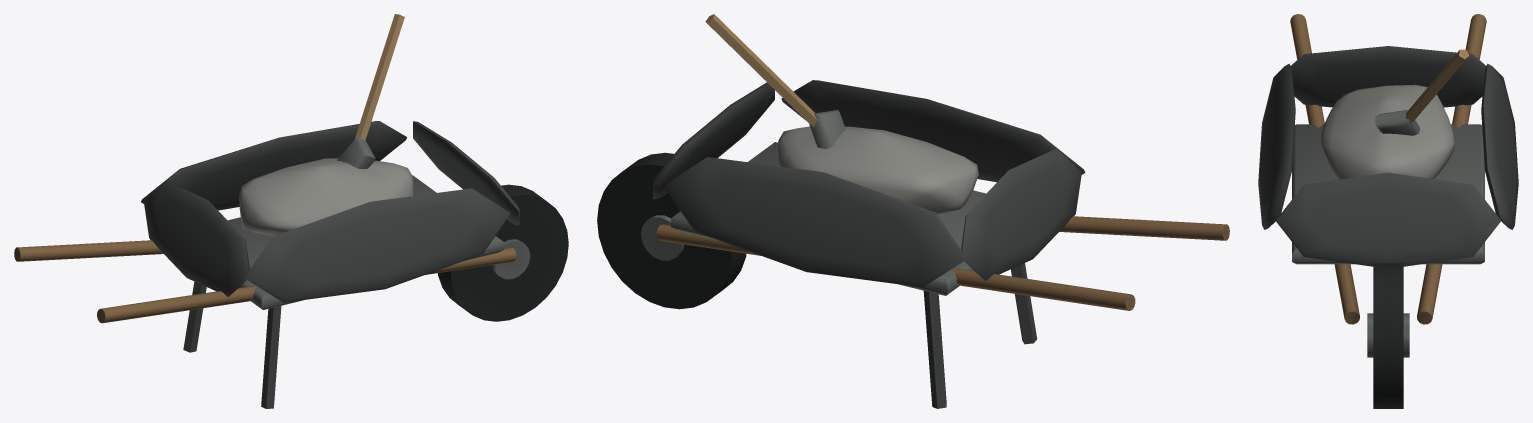
The model's file is wheelbarrow_a.glb.
The picture shows the model from 3 angles, left to right: view 1: azimuth 30°, elevation 25°; view 2: azimuth 150°, elevation 25°; view 3: azimuth 270°, elevation 25°; orthographic projection. The views are drawn at different scales.
Parts seen in each view (by area): view 1: Surface; view 2: Surface; view 3: Surface.
Part boxes in pixels (bbox=[...]): Surface: bbox=[14, 14, 568, 408]; Surface: bbox=[597, 14, 1229, 408]; Surface: bbox=[1258, 14, 1518, 408].
Size of the model in its own units: 2.08 by 1.16 by 0.8646.
